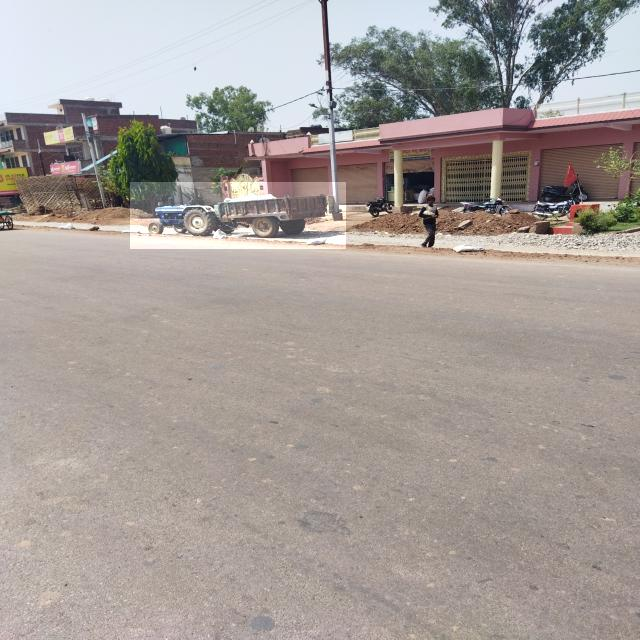Tractot: (130, 182, 346, 249)
